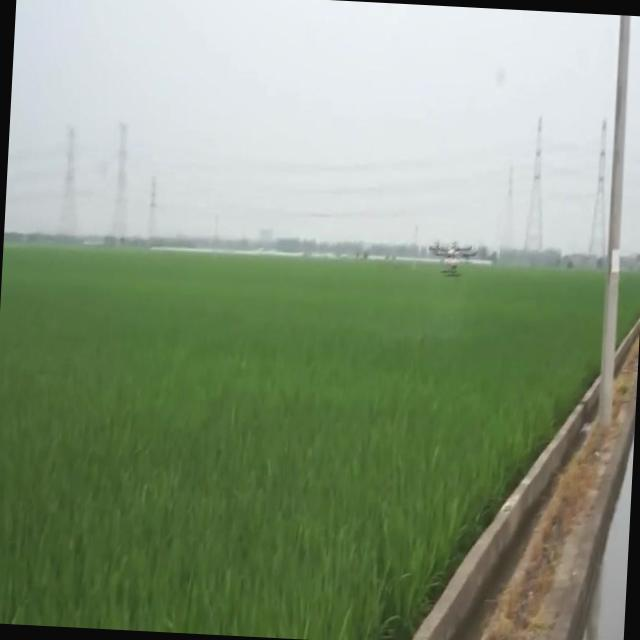drone: (426, 238, 482, 277)
